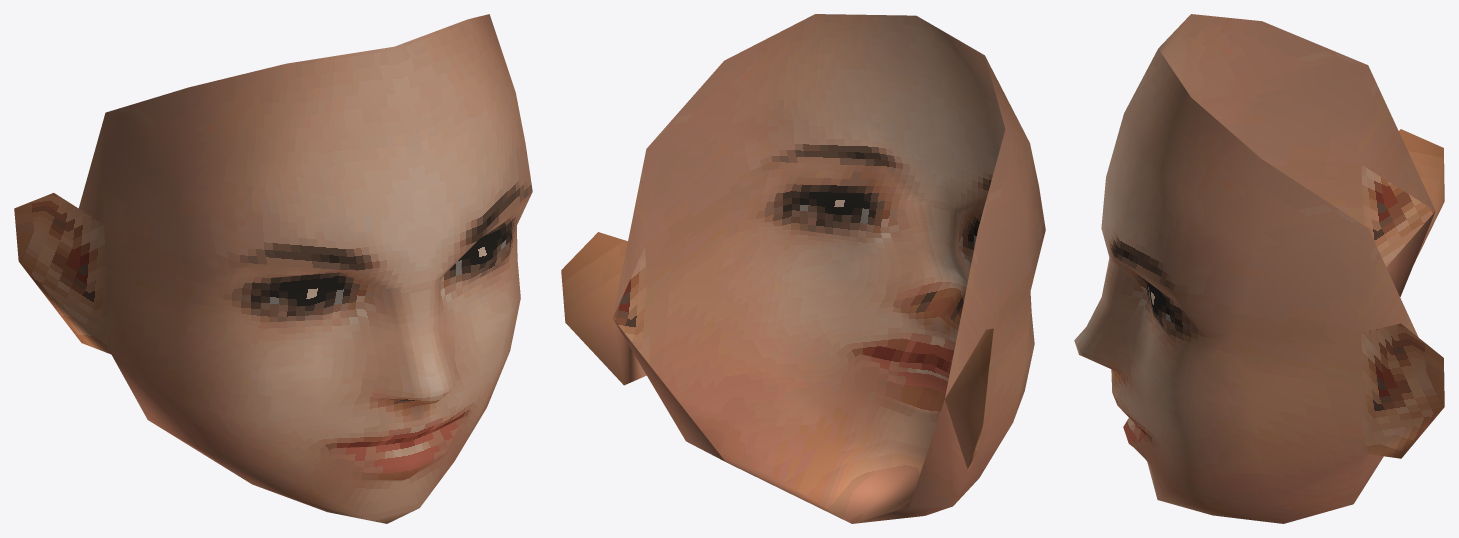
3 renders of one model, left to right at view 1: azimuth 30°, elevation 25°; view 2: azimuth 150°, elevation 25°; view 3: azimuth 270°, elevation 25°, orthographic. The views are drawn at different scales.
Bounding box in the file's own units: 19.4 × 20.02 × 14.47.
Materials: 1 (1 with a texture image).
